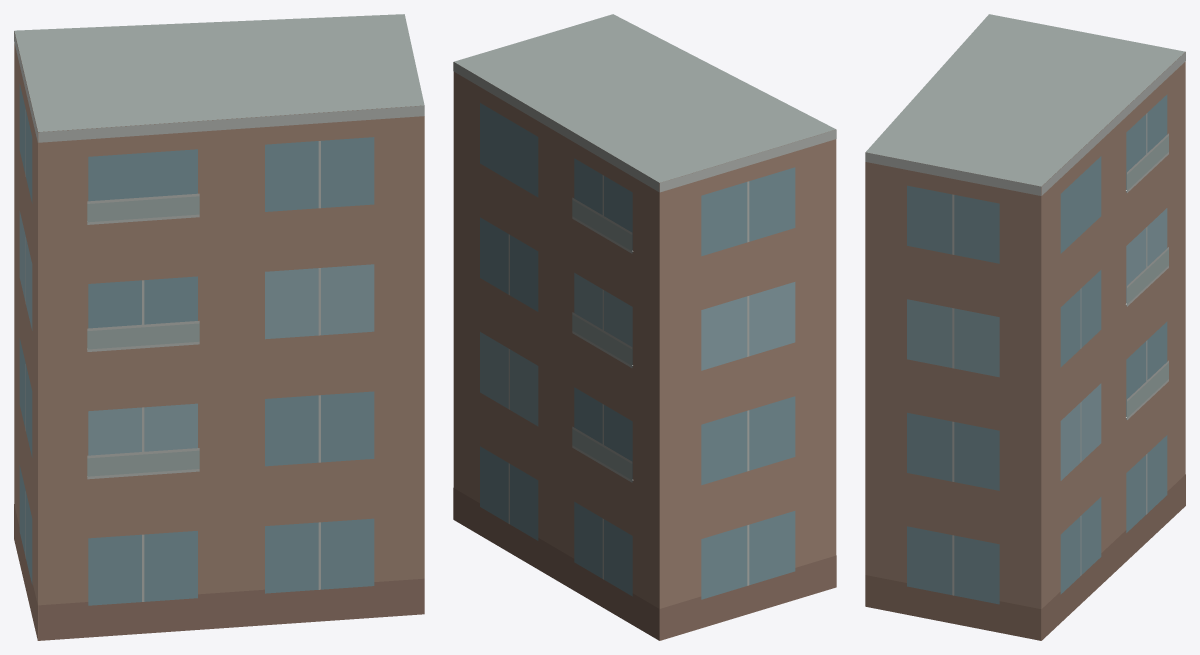
The model's file is survey-upis-32725303.glb.
3 views of the same model, side by side, from view 1: azimuth 30°, elevation 25°; view 2: azimuth 150°, elevation 25°; view 3: azimuth 270°, elevation 25° (orthographic). The views are drawn at different scales.
Visible parts, largest first — view 1: survey-upis-32725303.tmp; view 2: survey-upis-32725303.tmp; view 3: survey-upis-32725303.tmp.
Boxes of the visible parts, x1,y1,x2,y2 form: survey-upis-32725303.tmp: (14, 14, 424, 640); survey-upis-32725303.tmp: (453, 14, 836, 640); survey-upis-32725303.tmp: (865, 14, 1185, 640).
Size of the model in its own units: 9.46 by 11.6 by 7.42.
